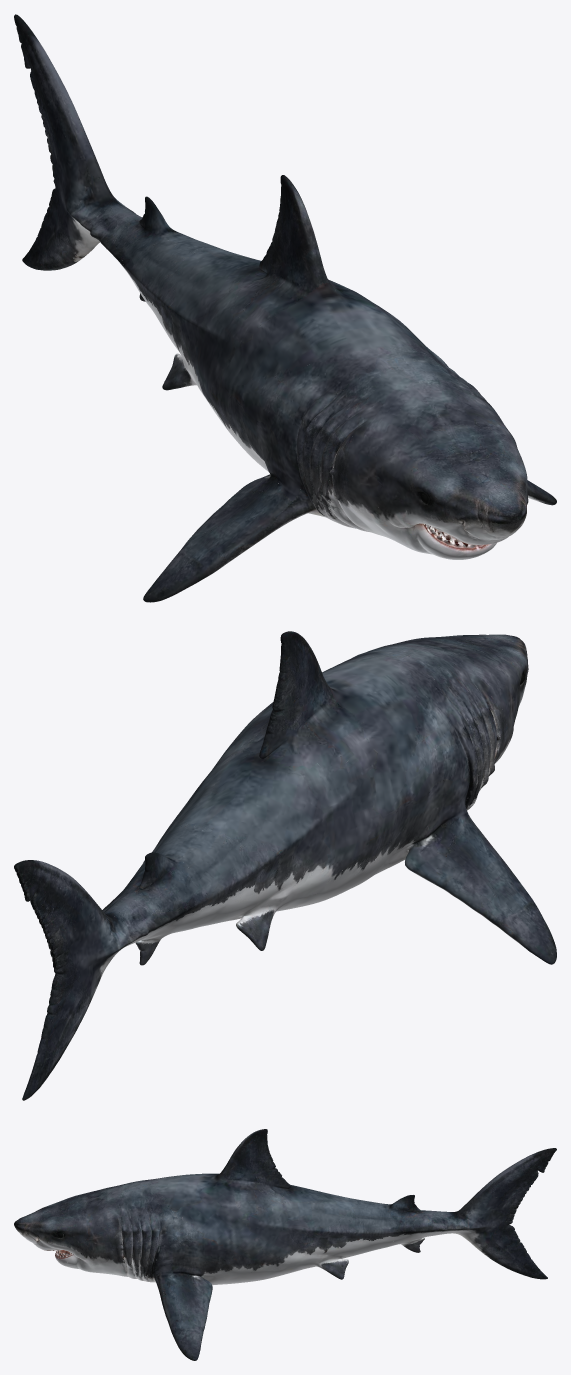
File: shark.glb
The picture shows the model from 3 angles, top to bottom: view 1: azimuth 30°, elevation 25°; view 2: azimuth 150°, elevation 25°; view 3: azimuth 270°, elevation 25°; orthographic projection. The views are drawn at different scales.
Visible parts, largest first — view 1: great-white-shark; view 2: great-white-shark; view 3: great-white-shark.
Boxes of the visible parts, <box> form: great-white-shark: <box>14,14,556,602</box>; great-white-shark: <box>14,631,556,1100</box>; great-white-shark: <box>14,1129,556,1360</box>.
Size of the model in its own units: 2.36 by 1.81 by 5.
Materials: 1 (1 with a texture image).
